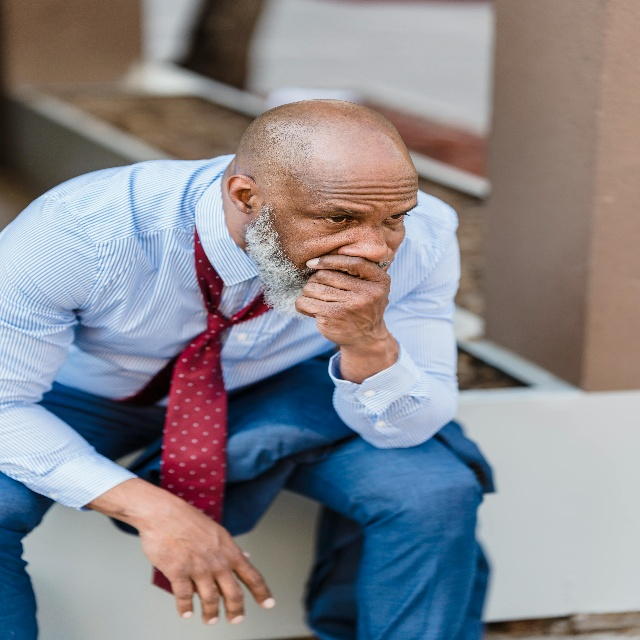Sin_guantes: (139, 474, 277, 627), (294, 248, 391, 348)
